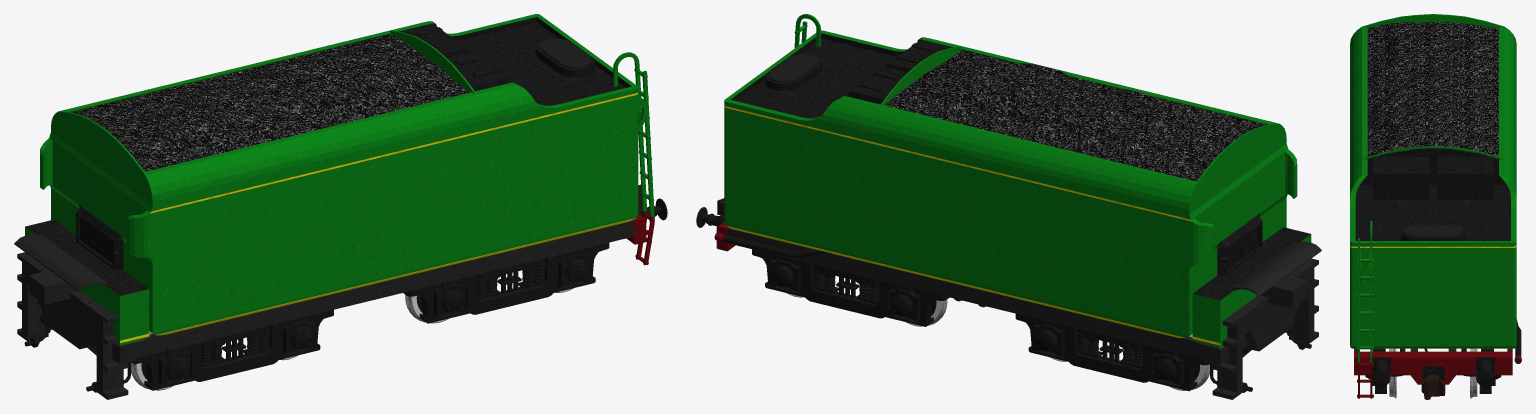
Rendered from class_38_tender.obj.
The picture shows the model from 3 angles, left to right: view 1: azimuth 30°, elevation 25°; view 2: azimuth 150°, elevation 25°; view 3: azimuth 270°, elevation 25°; orthographic projection. The views are drawn at different scales.
Visible parts, largest first — view 1: SHELL_Cube.058, Cube.052_Cube.156, FRAME_Cube.055, BOGEY_REAR_Cube.052, BOGEY_FRONT_Cube.048, Cube.056_Cube.054; view 2: SHELL_Cube.058, Cube.052_Cube.156, FRAME_Cube.055, BOGEY_REAR_Cube.052, BOGEY_FRONT_Cube.048, Cylinder.007_Cylinder.017; view 3: SHELL_Cube.058, Cube.052_Cube.156, FRAME_Cube.055, Cube.056_Cube.054, FRAME.001_Cube.056, BOGEY_REAR_Cube.052, Coupler.001_Cube.049, BOGEY_REAR_WHEEL_2_Cylinder.020, FRAME.002_Cube.045, Cylinder.007_Cylinder.017.
Boxes of the visible parts, x1=… form: SHELL_Cube.058: x1=14, y1=14, x2=638, y2=399; Cube.052_Cube.156: x1=70, y1=34, x2=469, y2=171; FRAME_Cube.055: x1=37, y1=214, x2=646, y2=364; BOGEY_REAR_Cube.052: x1=403, y1=242, x2=609, y2=323; BOGEY_FRONT_Cube.048: x1=131, y1=310, x2=333, y2=390; Cube.056_Cube.054: x1=613, y1=52, x2=654, y2=265; SHELL_Cube.058: x1=724, y1=30, x2=1321, y2=399; Cube.052_Cube.156: x1=885, y1=50, x2=1267, y2=181; FRAME_Cube.055: x1=716, y1=222, x2=1299, y2=365; BOGEY_REAR_Cube.052: x1=752, y1=249, x2=949, y2=326; BOGEY_FRONT_Cube.048: x1=1015, y1=313, x2=1209, y2=391; Cylinder.007_Cylinder.017: x1=714, y1=232, x2=827, y2=257; SHELL_Cube.058: x1=1350, y1=14, x2=1516, y2=348; Cube.052_Cube.156: x1=1367, y1=22, x2=1498, y2=156; FRAME_Cube.055: x1=1354, y1=348, x2=1512, y2=384; Cube.056_Cube.054: x1=1357, y1=220, x2=1373, y2=398; FRAME.001_Cube.056: x1=1372, y1=356, x2=1495, y2=386; BOGEY_REAR_Cube.052: x1=1365, y1=348, x2=1501, y2=393; Coupler.001_Cube.049: x1=1421, y1=374, x2=1445, y2=399; BOGEY_REAR_WHEEL_2_Cylinder.020: x1=1389, y1=348, x2=1477, y2=398; FRAME.002_Cube.045: x1=1421, y1=364, x2=1445, y2=383; Cylinder.007_Cylinder.017: x1=1514, y1=319, x2=1521, y2=363.
Size of the model in its own units: 10.47 by 4.23 by 3.15.
Materials: 10 (10 with a texture image).
